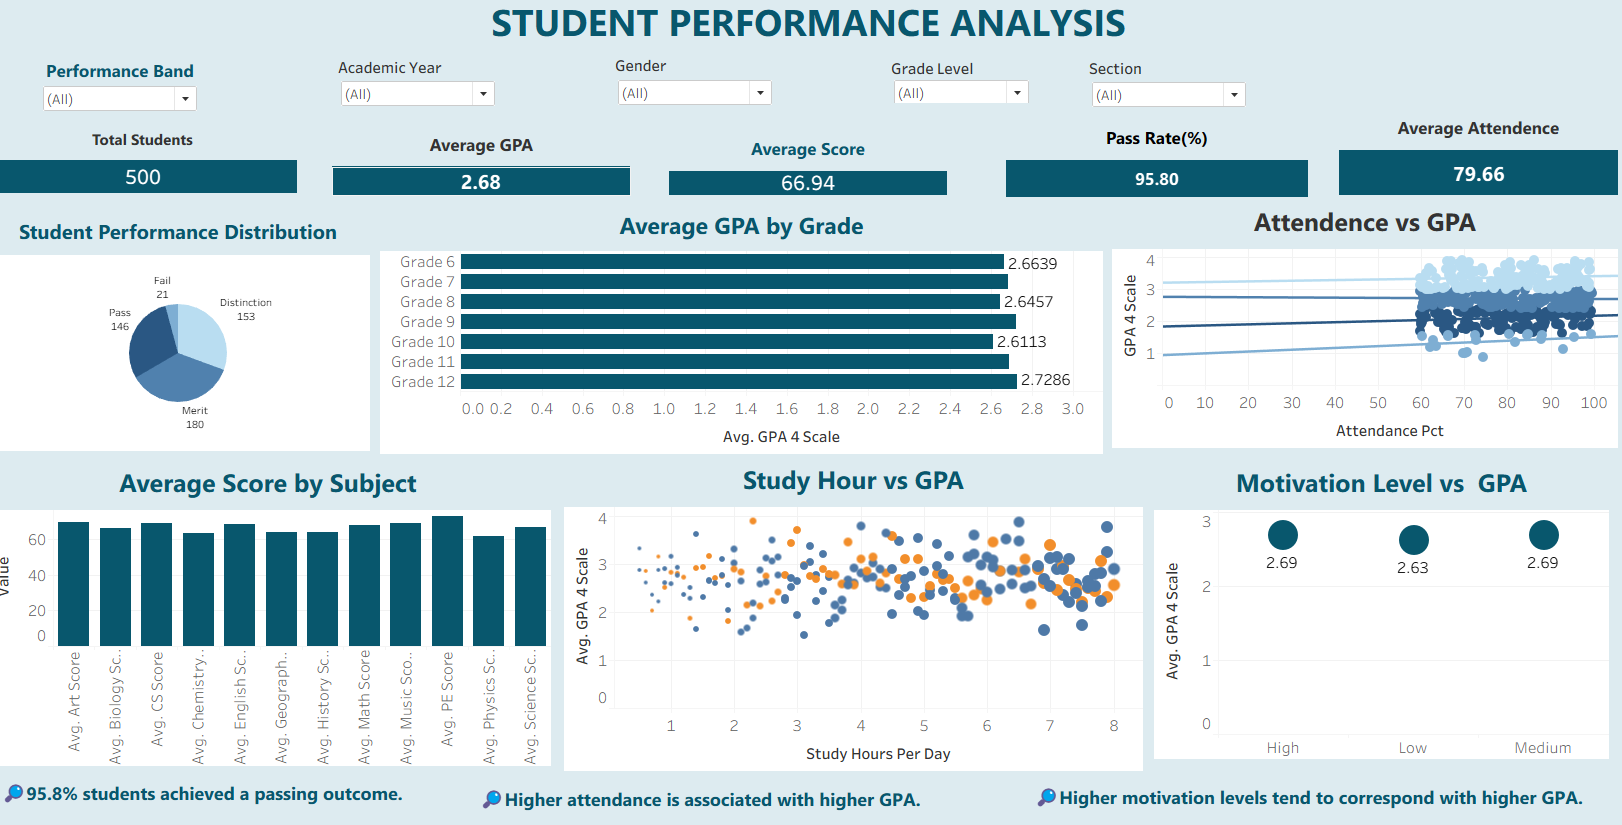

What the dashboard file says about the page in this screenshot:
{"tool":"tableau","page":{"name":"DASHBOARD","canvas":[1000,1000],"units":"permille","ordinal":0},"visuals":[{"type":"title","box":[4.8,9.4,990.3,68.2]},{"type":"filter","title":"AVG GPA","param":"[federated.0x5mrdj01tvhvw19z4r6m135dq82].[none:Gender:nk]","box":[383.2,83.4,96.6,70.5]},{"type":"filter","title":"AVG GPA","param":"[federated.0x5mrdj01tvhvw19z4r6m135dq82].[none:Academic_Year:nk]","box":[216.1,85.8,96.6,59.9]},{"type":"filter","title":"AVG GPA","param":"[federated.0x5mrdj01tvhvw19z4r6m135dq82].[none:Grade_Level:nk]","box":[549.8,87,85.1,52.9]},{"type":"filter","title":"AVG GPA","param":"[federated.0x5mrdj01tvhvw19z4r6m135dq82].[none:Section:nk]","box":[669.3,87,96.6,59.9]},{"type":"filter","title":"STUDENT PERFORMANCE DISTRIBUTION","param":"[federated.0x5mrdj01tvhvw19z4r6m135dq82].[none:Performance_Band:nk]","box":[36.2,88.1,96.6,77.6]},{"type":"worksheet","title":"attendence","mark":"Automatic","box":[820.2,150.4,168.4,97.5]},{"type":"worksheet","title":"Pass Rate","mark":"Automatic","box":[619.2,162.2,182.3,88.1]},{"type":"worksheet","title":"total students","mark":"Automatic","box":[4.8,165.7,186.5,79.9]},{"type":"worksheet","title":"AVG GPA","mark":"Automatic","box":[212.4,170.4,180.5,79.9]},{"type":"worksheet","title":"AVG Score","mark":"Automatic","box":[415.8,175.1,167.8,72.9]},{"type":"worksheet","title":"attendence vs gpa","mark":"Circle","rows":["GPA_4_Scale"],"cols":["Attendance_Pct"],"box":[683.2,253.8,305.4,291.4]},{"type":"worksheet","title":"AVG GPA BY GRADELEVEL","mark":"Automatic","rows":["Grade_Level"],"cols":["GPA_4_Scale"],"box":[241.4,259.7,436.3,396]},{"type":"worksheet","title":"STUDENT PERFORMANCE DISTRIBUTION","mark":"Pie","box":[3.6,269.1,231.7,279.7]},{"type":"worksheet","title":"STUDY HOUR VS GPA","mark":"Circle","rows":["GPA_4_Scale"],"cols":["Study_Hours_Per_Day"],"box":[352.4,557,349.4,367.8]},{"type":"worksheet","title":"AVG SCORE BY SUBJECT","mark":"Bar","box":[3,560.5,341.6,358.4]},{"type":"worksheet","title":"Motivation Level vs Average GPA","mark":"Circle","rows":["GPA_4_Scale"],"cols":["Motivation_Level"],"box":[708.5,560.5,274.6,350.2]},{"type":"text","box":[610.1,937.7,383.2,35.2]},{"type":"text","box":[285.5,941.2,298.1,32.9]}]}

Visuals, with their boxes on the dashboard's canvas, which has no fixed pixel size, in thousandths of its width and height (x1, y1, x2, y2). These are canvas units, not pixel positions in the 1622x825 screenshot, which may show the page scaled, cropped or inside an application window:
title: Rect(5, 9, 995, 78)
"AVG GPA" filter: Rect(383, 83, 480, 154)
"AVG GPA" filter: Rect(216, 86, 313, 146)
"AVG GPA" filter: Rect(550, 87, 635, 140)
"AVG GPA" filter: Rect(669, 87, 766, 147)
"STUDENT PERFORMANCE DISTRIBUTION" filter: Rect(36, 88, 133, 166)
"attendence" worksheet: Rect(820, 150, 989, 248)
"Pass Rate" worksheet: Rect(619, 162, 802, 250)
"total students" worksheet: Rect(5, 166, 191, 246)
"AVG GPA" worksheet: Rect(212, 170, 393, 250)
"AVG Score" worksheet: Rect(416, 175, 584, 248)
"attendence vs gpa" worksheet (Circle marks): Rect(683, 254, 989, 545)
"AVG GPA BY GRADELEVEL" worksheet: Rect(241, 260, 678, 656)
"STUDENT PERFORMANCE DISTRIBUTION" worksheet (Pie marks): Rect(4, 269, 235, 549)
"STUDY HOUR VS GPA" worksheet (Circle marks): Rect(352, 557, 702, 925)
"AVG SCORE BY SUBJECT" worksheet (Bar marks): Rect(3, 560, 345, 919)
"Motivation Level vs Average GPA" worksheet (Circle marks): Rect(708, 560, 983, 911)
text: Rect(610, 938, 993, 973)
text: Rect(286, 941, 584, 974)
